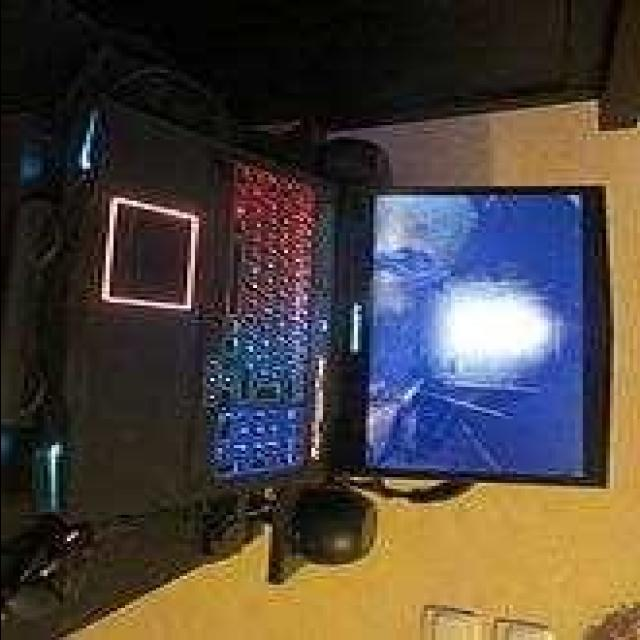laptop: (48, 147, 610, 505)
